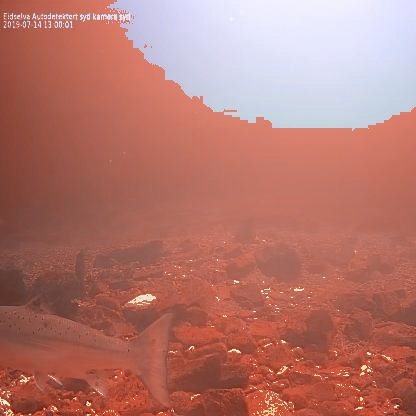salmon: (0, 290, 176, 411)
